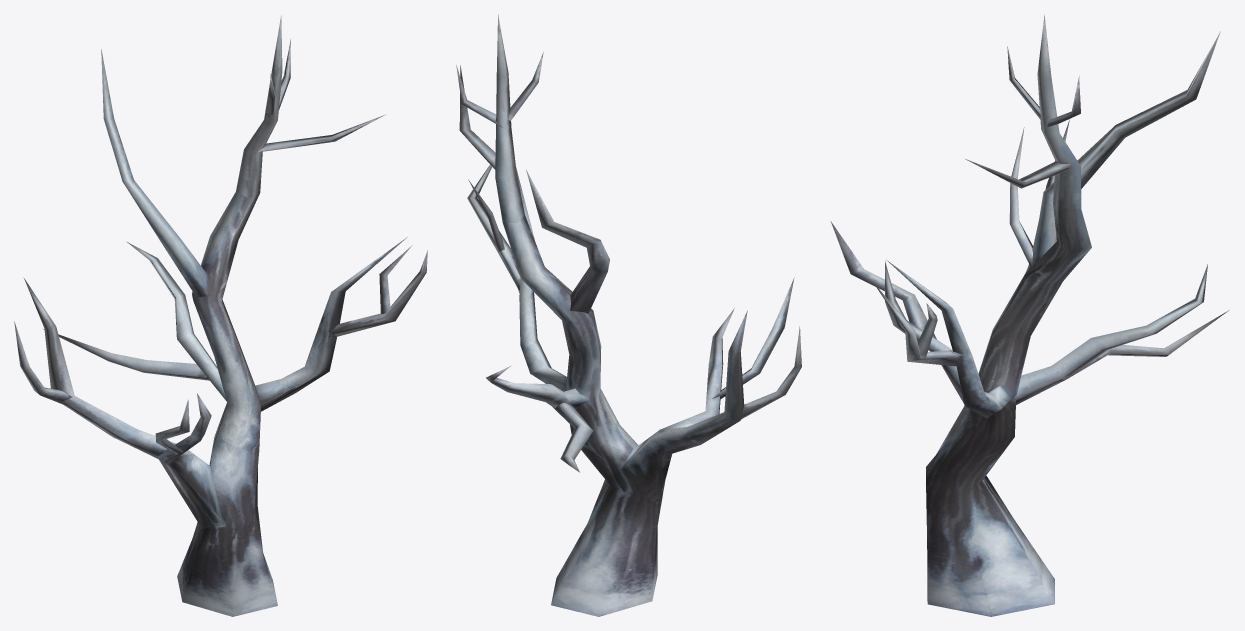
File: SM_Dead_tree_04.fbx
3 renders of one model, left to right at view 1: azimuth 30°, elevation 25°; view 2: azimuth 150°, elevation 25°; view 3: azimuth 270°, elevation 25°, orthographic. The views are drawn at different scales.
Visible parts, largest first — view 1: SM_Dead_tree_04; view 2: SM_Dead_tree_04; view 3: SM_Dead_tree_04.
Part boxes in pixels (bbox=[...]): SM_Dead_tree_04: bbox=[14, 15, 427, 616]; SM_Dead_tree_04: bbox=[456, 14, 801, 616]; SM_Dead_tree_04: bbox=[830, 15, 1228, 616].
Bounding box in the file's own units: 4.78 × 6.81 × 3.98.
